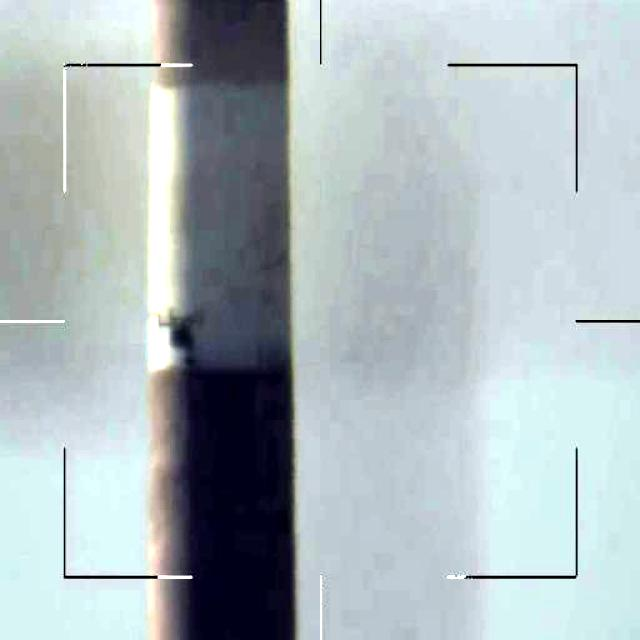bird: (162, 296, 222, 361)
